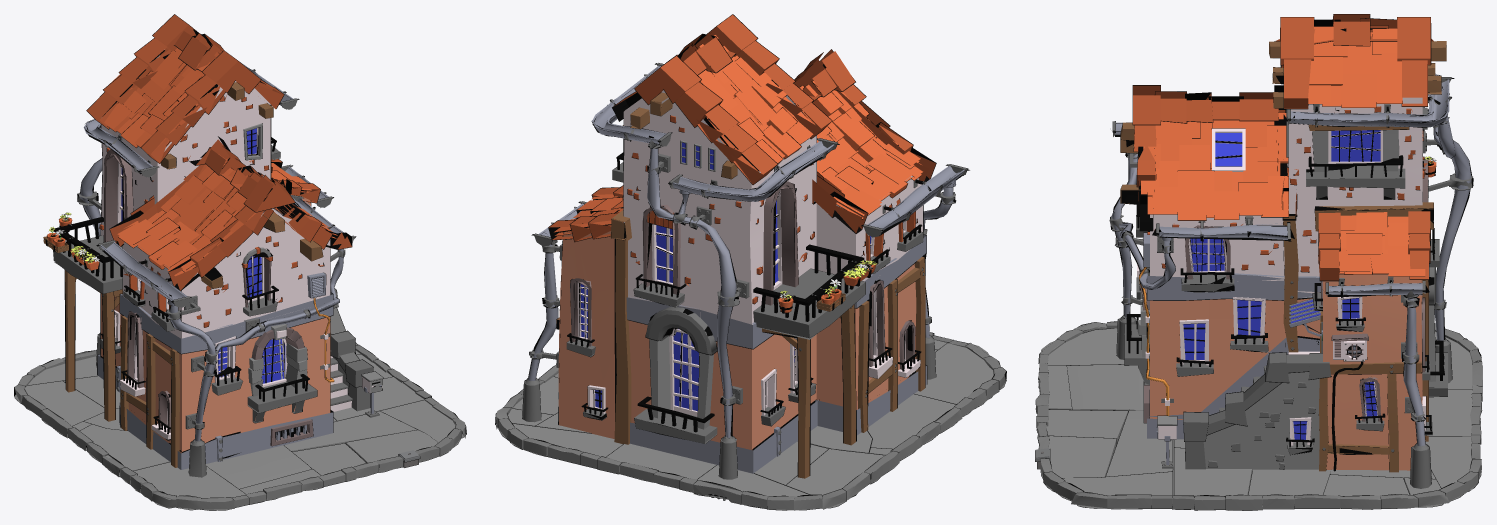
The model's file is house_09_cell_shading.glb.
The picture shows the model from 3 angles, left to right: view 1: azimuth 30°, elevation 25°; view 2: azimuth 150°, elevation 25°; view 3: azimuth 270°, elevation 25°; orthographic projection. The views are drawn at different scales.
Visible parts, largest first — view 1: 01_Maison_09.003_Mat_Rouge_01_0, 01_Maison_09.005_Mat_Blanc_0, 01_Maison_09.004_Mat_Rouge_0, 01_Maison_09.005_Mat_Brique_0, 01_SOL_Maison_09.006_MAT_Gris_Rue_0, 01_Maison_09.010_Mat_Metal_low_0, 01_Maison_09.023_Mat_Bois_0, 01_Maison_09.012_Mat_Gris_Dark_0, 01_SOL_Maison_09.002_Mat_Gris_Clair_0, 01_Maison_09.022_Mat_Gris_Marron_0, 01_Maison_09.009_Mat_Metal_low_0, 01_Maison_09.011_Mat_Metal_low_0 (+32 smaller); view 2: 01_Maison_09.005_Mat_Brique_0, 01_Maison_09.005_Mat_Blanc_0, 01_Maison_09.003_Mat_Rouge_01_0, 01_Maison_09.004_Mat_Rouge_0, 01_Maison_09.023_Mat_Bois_0, 01_SOL_Maison_09.006_MAT_Gris_Rue_0, 01_Maison_09.010_Mat_Metal_low_0, 01_Maison_09.012_Mat_Gris_Dark_0, 01_Maison_09.022_Mat_Gris_Marron_0, 01_Maison_09.009_Mat_Metal_low_0, 01_Maison_09.011_Mat_Metal_low_0, 01_Maison_09.007_Mat_Blanc_0 (+30 smaller); view 3: 01_Maison_09.004_Mat_Rouge_0, 01_Maison_09.005_Mat_Brique_0, 01_Maison_09.003_Mat_Rouge_01_0, 01_Maison_09.005_Mat_Blanc_0, 01_SOL_Maison_09.006_MAT_Gris_Rue_0, 01_Maison_09.005_Mat_Gris_Clair_0, 01_Maison_09.012_Mat_Gris_Dark_0, 01_Maison_09.011_Mat_Metal_low_0, 01_Maison_09.034_MAT_Bleu_0, 01_Maison_09.009_Mat_Metal_low_0, 01_Maison_09.015_Mat_Bois_0, 01_Maison_09.010_Mat_Metal_low_0 (+37 smaller).
Part boxes in pixels (left/top/right/bottom): 01_Maison_09.003_Mat_Rouge_01_0: left=87, top=14, right=351, bottom=290; 01_Maison_09.005_Mat_Blanc_0: left=101, top=49, right=330, bottom=338; 01_Maison_09.004_Mat_Rouge_0: left=104, top=48, right=337, bottom=276; 01_Maison_09.005_Mat_Brique_0: left=101, top=192, right=330, bottom=453; 01_SOL_Maison_09.006_MAT_Gris_Rue_0: left=14, top=343, right=465, bottom=510; 01_Maison_09.010_Mat_Metal_low_0: left=97, top=293, right=333, bottom=469; 01_Maison_09.023_Mat_Bois_0: left=65, top=270, right=179, bottom=467; 01_Maison_09.012_Mat_Gris_Dark_0: left=53, top=145, right=317, bottom=422; 01_SOL_Maison_09.002_Mat_Gris_Clair_0: left=133, top=400, right=455, bottom=501; 01_Maison_09.022_Mat_Gris_Marron_0: left=104, top=149, right=270, bottom=432; 01_Maison_09.009_Mat_Metal_low_0: left=83, top=62, right=343, bottom=300; 01_Maison_09.011_Mat_Metal_low_0: left=80, top=158, right=343, bottom=442; 01_Maison_09.005_Mat_Brique_0: left=558, top=231, right=916, bottom=449; 01_Maison_09.005_Mat_Blanc_0: left=623, top=90, right=922, bottom=324; 01_Maison_09.003_Mat_Rouge_01_0: left=549, top=14, right=935, bottom=241; 01_Maison_09.004_Mat_Rouge_0: left=554, top=35, right=922, bottom=235; 01_Maison_09.023_Mat_Bois_0: left=614, top=239, right=925, bottom=478; 01_SOL_Maison_09.006_MAT_Gris_Rue_0: left=496, top=332, right=1005, bottom=510; 01_Maison_09.010_Mat_Metal_low_0: left=626, top=235, right=926, bottom=473; 01_Maison_09.012_Mat_Gris_Dark_0: left=566, top=163, right=923, bottom=443; 01_Maison_09.022_Mat_Gris_Marron_0: left=570, top=181, right=915, bottom=369; 01_Maison_09.009_Mat_Metal_low_0: left=538, top=65, right=964, bottom=236; 01_Maison_09.011_Mat_Metal_low_0: left=528, top=145, right=953, bottom=438; 01_Maison_09.007_Mat_Blanc_0: left=577, top=190, right=906, bottom=416; 01_Maison_09.004_Mat_Rouge_0: left=1141, top=25, right=1425, bottom=276; 01_Maison_09.005_Mat_Brique_0: left=1150, top=274, right=1422, bottom=470; 01_Maison_09.003_Mat_Rouge_01_0: left=1133, top=14, right=1433, bottom=280; 01_Maison_09.005_Mat_Blanc_0: left=1150, top=97, right=1422, bottom=296; 01_SOL_Maison_09.006_MAT_Gris_Rue_0: left=1036, top=321, right=1482, bottom=510; 01_Maison_09.005_Mat_Gris_Clair_0: left=1203, top=372, right=1319, bottom=470; 01_Maison_09.012_Mat_Gris_Dark_0: left=1124, top=165, right=1447, bottom=454; 01_Maison_09.011_Mat_Metal_low_0: left=1111, top=115, right=1471, bottom=446; 01_Maison_09.034_MAT_Bleu_0: left=1183, top=130, right=1380, bottom=439; 01_Maison_09.009_Mat_Metal_low_0: left=1115, top=74, right=1449, bottom=295; 01_Maison_09.015_Mat_Bois_0: left=1120, top=41, right=1446, bottom=454; 01_Maison_09.010_Mat_Metal_low_0: left=1147, top=273, right=1320, bottom=439.
Size of the model in its own units: 1.86 by 2 by 1.98.
